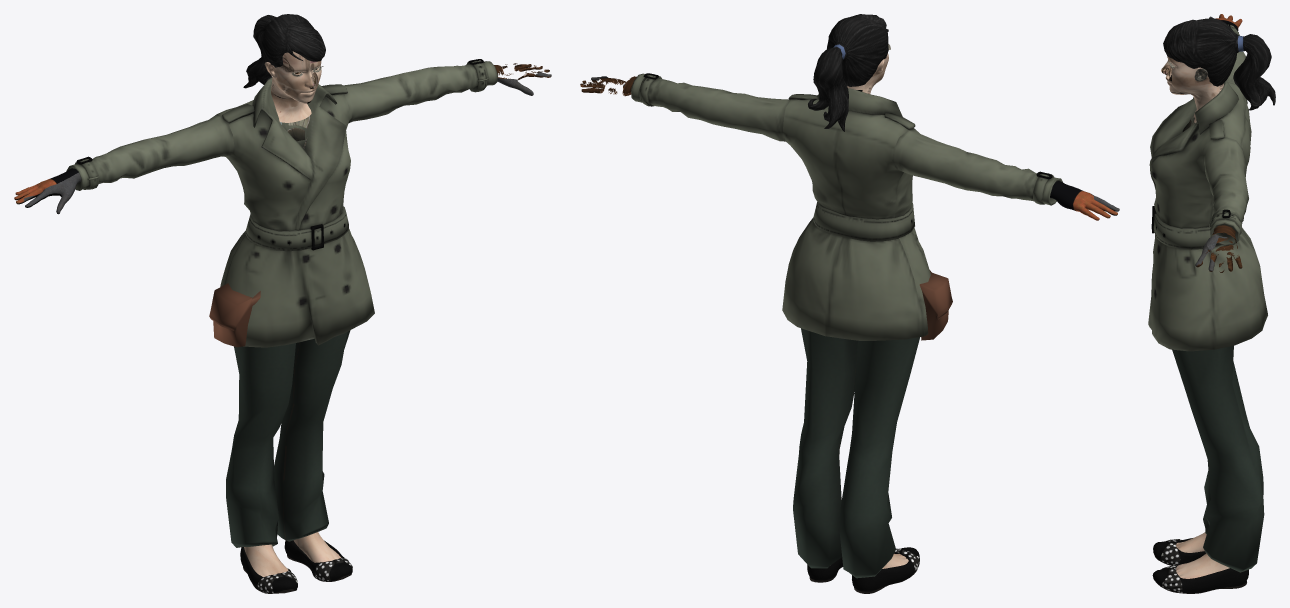
3 views of the same model, side by side, from view 1: azimuth 30°, elevation 25°; view 2: azimuth 150°, elevation 25°; view 3: azimuth 270°, elevation 25° (orthographic).
Parts seen in each view (by area): view 1: Tops, Bottoms, Body, Hair, Shoes; view 2: Tops, Bottoms, Hair, Body, Shoes; view 3: Tops, Bottoms, Hair, Body, Shoes.
Part boxes in pixels (x1=…): Tops: x1=66, y1=59, x2=497, y2=347; Bottoms: x1=209, y1=283, x2=350, y2=547; Body: x1=14, y1=51, x2=551, y2=576; Hair: x1=243, y1=14, x2=325, y2=88; Shoes: x1=240, y1=540, x2=352, y2=593; Tops: x1=631, y1=73, x2=1062, y2=340; Bottoms: x1=793, y1=270, x2=952, y2=578; Hair: x1=808, y1=14, x2=888, y2=131; Body: x1=580, y1=53, x2=1119, y2=568; Shoes: x1=807, y1=547, x2=919, y2=593; Tops: x1=1148, y1=22, x2=1267, y2=351; Bottoms: x1=1172, y1=345, x2=1264, y2=572; Hair: x1=1163, y1=18, x2=1275, y2=110; Body: x1=1161, y1=14, x2=1242, y2=578; Shoes: x1=1152, y1=538, x2=1248, y2=593.
Bounding box in the file's own units: 179 × 178 × 37.21.
